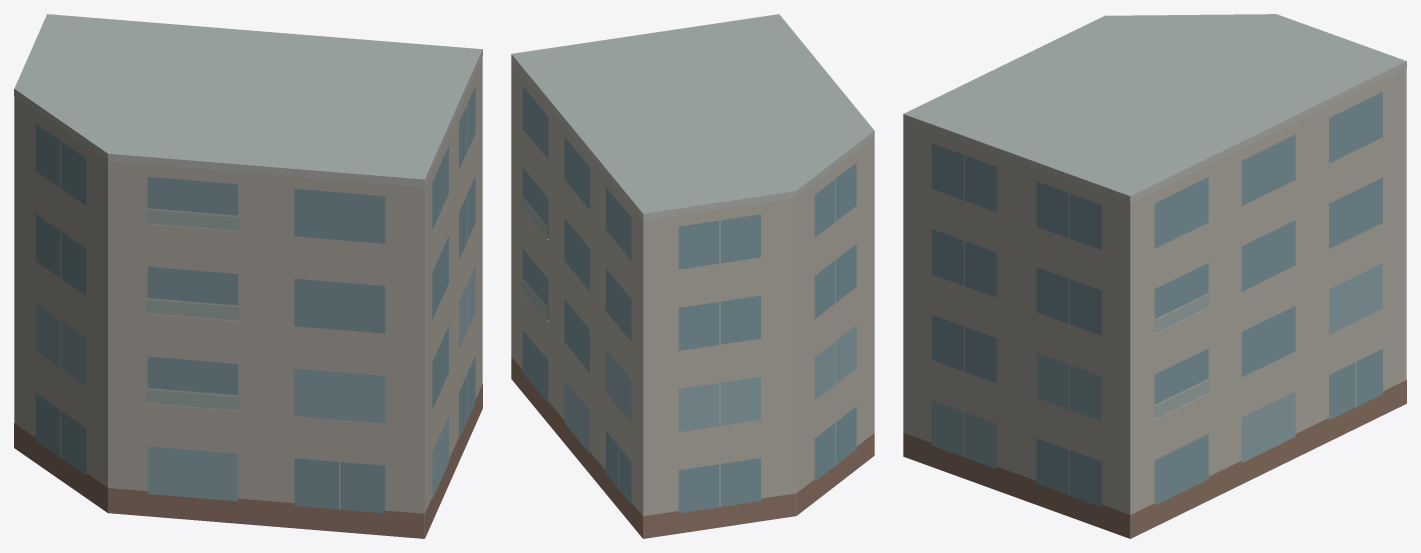
Rendered from survey-upis-32706485.glb.
3 renders of one model, left to right at view 1: azimuth 30°, elevation 25°; view 2: azimuth 150°, elevation 25°; view 3: azimuth 270°, elevation 25°, orthographic. The views are drawn at different scales.
Parts seen in each view (by area): view 1: survey-upis-32706485.tmp; view 2: survey-upis-32706485.tmp; view 3: survey-upis-32706485.tmp.
Boxes of the visible parts, x1,y1,x2,y2 form: survey-upis-32706485.tmp: (14,14,482,538); survey-upis-32706485.tmp: (511,14,874,538); survey-upis-32706485.tmp: (903,14,1406,538).
Size of the model in its own units: 13.36 by 11.7 by 15.59.
